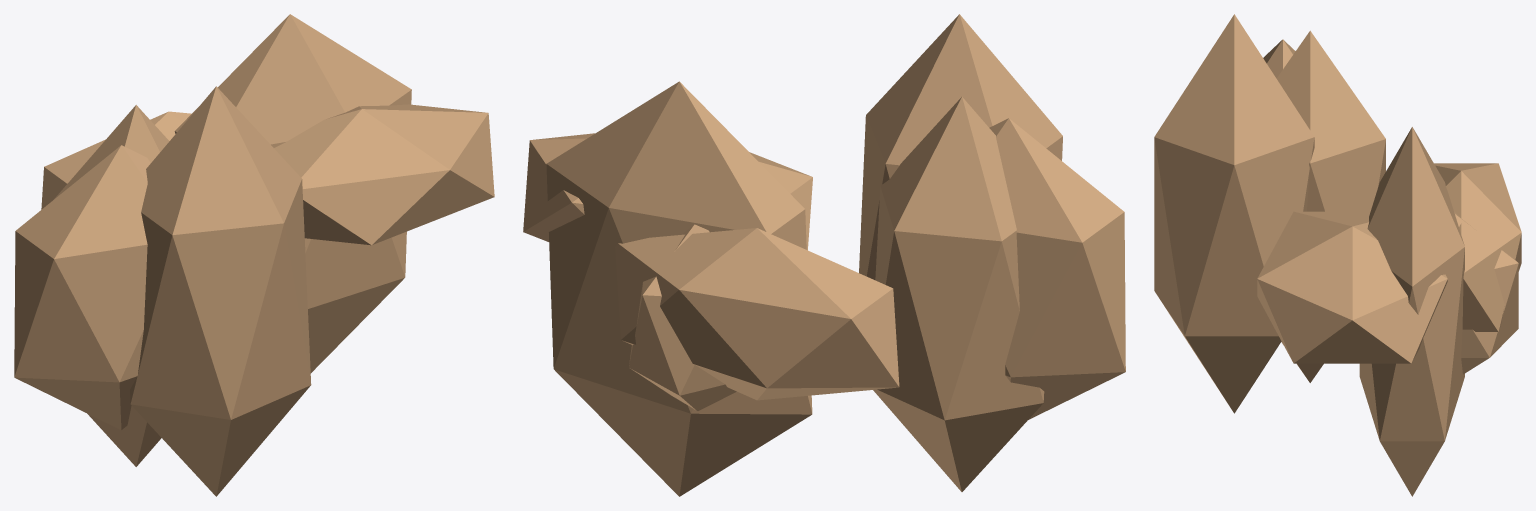
The model's file is coastal-rocks.glb.
3 views of the same model, side by side, from view 1: azimuth 30°, elevation 25°; view 2: azimuth 150°, elevation 25°; view 3: azimuth 270°, elevation 25° (orthographic). The views are drawn at different scales.
Visible parts, largest first — view 1: Eroded sandstone.001, Eroded sandstone.002, Eroded sandstone.005, Eroded sandstone.006, Eroded sandstone.003, Eroded sandstone; view 2: Eroded sandstone.006, Eroded sandstone.003, Eroded sandstone, Eroded sandstone.002, Eroded sandstone.001, Eroded sandstone.004, Eroded sandstone.005; view 3: Eroded sandstone.001, Eroded sandstone.006, Eroded sandstone.005, Eroded sandstone.003, Eroded sandstone, Eroded sandstone.004, Eroded sandstone.002.
Boxes of the visible parts, <box> form: Eroded sandstone.001: <box>130,86,311,496</box>; Eroded sandstone.002: <box>14,145,150,430</box>; Eroded sandstone.005: <box>274,104,494,245</box>; Eroded sandstone.006: <box>174,14,411,373</box>; Eroded sandstone.003: <box>54,105,169,466</box>; Eroded sandstone: <box>41,111,191,209</box>; Eroded sandstone.006: <box>546,81,812,496</box>; Eroded sandstone.003: <box>873,97,1044,491</box>; Eroded sandstone: <box>615,228,899,400</box>; Eroded sandstone.002: <box>989,118,1125,419</box>; Eroded sandstone.001: <box>859,14,1062,279</box>; Eroded sandstone.004: <box>629,224,736,411</box>; Eroded sandstone.005: <box>523,133,812,250</box>; Eroded sandstone.001: <box>1154,14,1314,413</box>; Eroded sandstone.006: <box>1359,127,1464,496</box>; Eroded sandstone.005: <box>1257,211,1447,363</box>; Eroded sandstone.003: <box>1276,30,1385,382</box>; Eroded sandstone: <box>1434,163,1521,331</box>; Eroded sandstone.004: <box>1454,212,1518,374</box>; Eroded sandstone.002: <box>1263,39,1295,78</box>.
Size of the model in its own units: 9.6 by 7.48 by 6.16.
